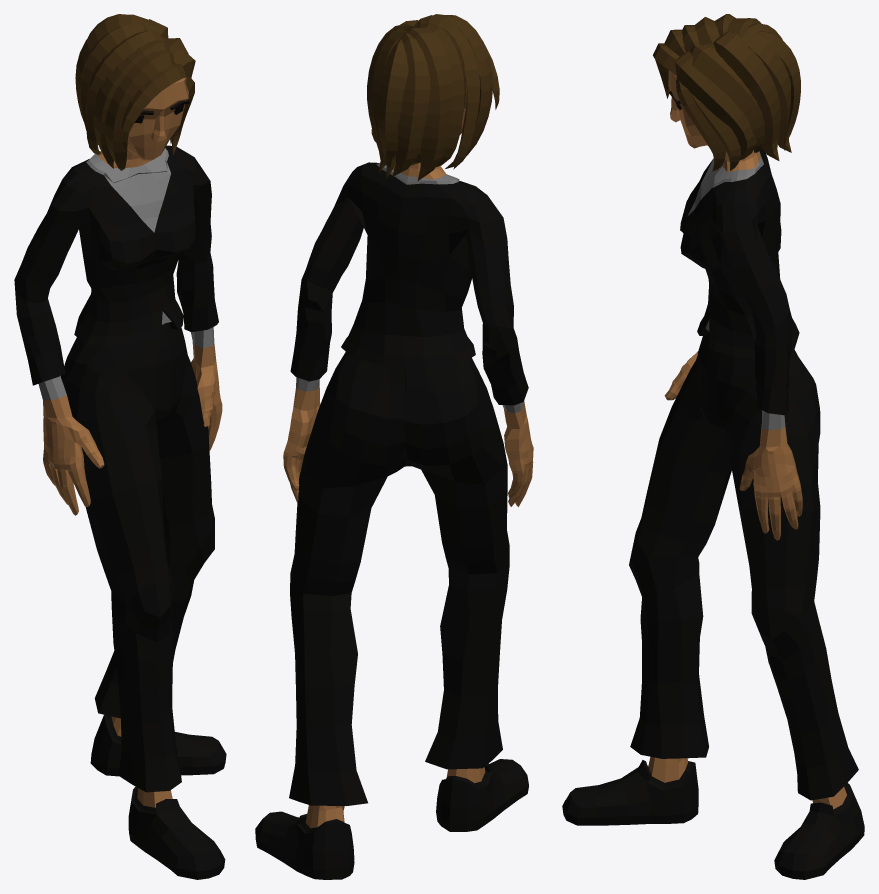
3 renders of one model, left to right at view 1: azimuth 30°, elevation 25°; view 2: azimuth 150°, elevation 25°; view 3: azimuth 270°, elevation 25°, orthographic. The views are drawn at different scales.
Visible parts, largest first — view 1: Suit_Legs_static, Suit_Body_static, Suit_Head_static, Suit_Feet_static; view 2: Suit_Legs_static, Suit_Body_static, Suit_Head_static, Suit_Feet_static; view 3: Suit_Legs_static, Suit_Body_static, Suit_Head_static, Suit_Feet_static.
Part boxes in pixels (left/top/right/bottom): Suit_Legs_static: left=60, top=322, right=214, bottom=792; Suit_Body_static: left=14, top=145, right=222, bottom=515; Suit_Head_static: left=75, top=14, right=195, bottom=170; Suit_Feet_static: left=90, top=715, right=226, bottom=879; Suit_Legs_static: left=289, top=352, right=509, bottom=805; Suit_Body_static: left=283, top=162, right=533, bottom=506; Suit_Head_static: left=367, top=14, right=499, bottom=180; Suit_Feet_static: left=255, top=759, right=528, bottom=879; Suit_Legs_static: left=629, top=332, right=858, bottom=800; Suit_Body_static: left=664, top=147, right=802, bottom=540; Suit_Head_static: left=653, top=14, right=800, bottom=171; Suit_Feet_static: left=562, top=756, right=864, bottom=879.
Size of the model in its own units: 0.5402 by 1.8 by 0.6169.
